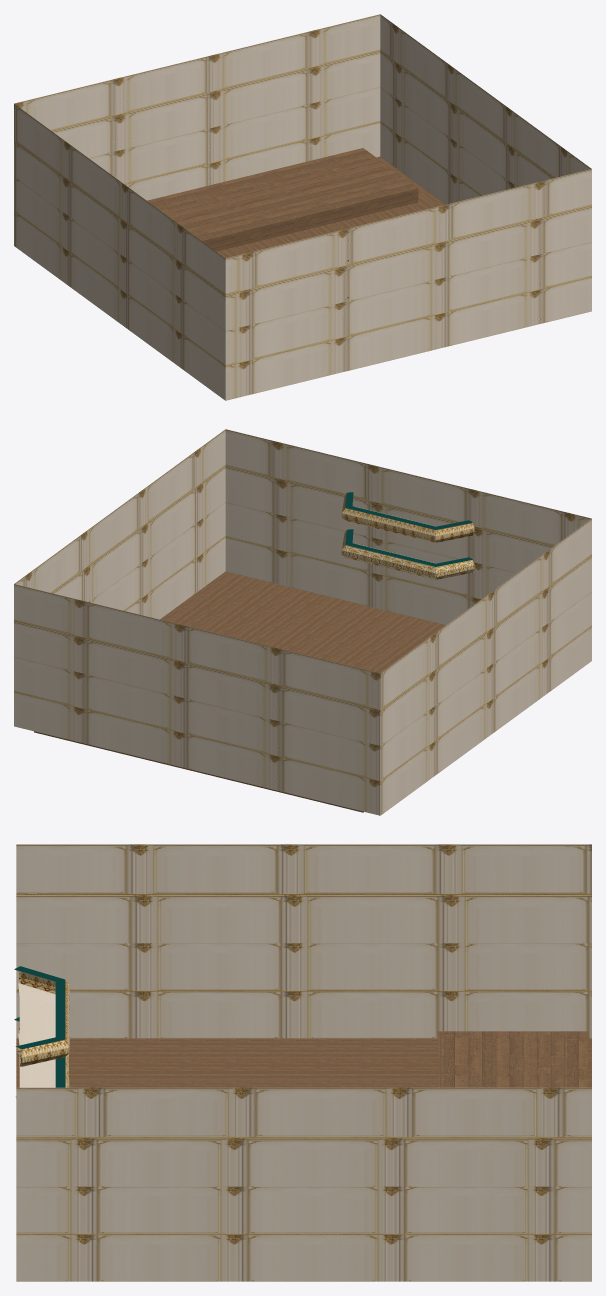
The model's file is balcony-test.glb.
3 renders of one model, top to bottom at view 1: azimuth 30°, elevation 25°; view 2: azimuth 150°, elevation 25°; view 3: azimuth 270°, elevation 25°, orthographic. The views are drawn at different scales.
Parts seen in each view (by area): view 1: Walls; view 2: Walls, Balcony boittom, Balcony Top; view 3: Walls, Balcony Top, Balcony boittom.
Part boxes in pixels (x1,y1,x2,y2): Walls: (14,14,591,400); Walls: (14,429,591,815); Balcony boittom: (341,529,474,579); Balcony Top: (341,492,474,542); Walls: (16,844,591,1281); Balcony Top: (14,966,69,1066); Balcony boittom: (14,1017,69,1097).
Size of the model in its own units: 19.5 by 7.36 by 19.58.
Materials: 3 (3 with a texture image).
